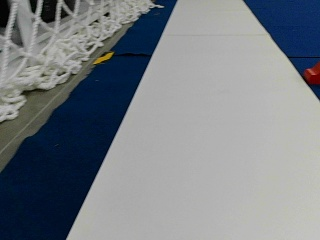bridge: (304, 61, 319, 82)
